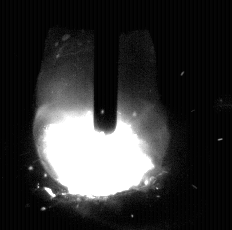arame: (95, 0, 119, 135)
poca: (34, 0, 169, 230)
